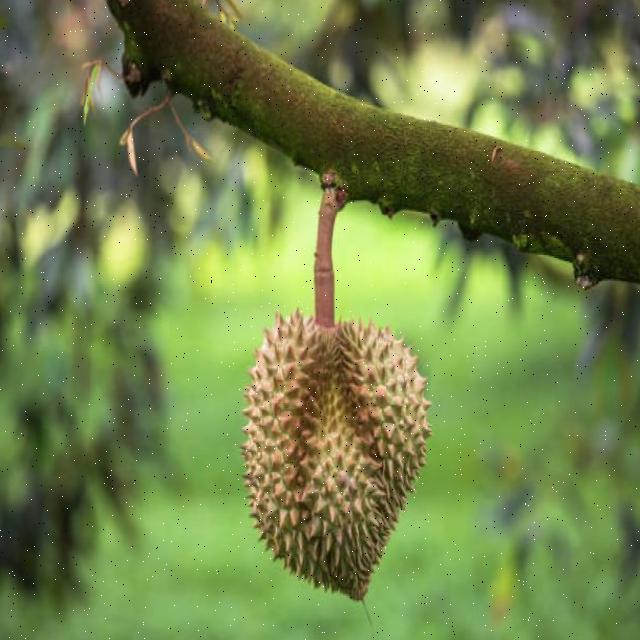RIPE: (245, 310, 433, 600)
